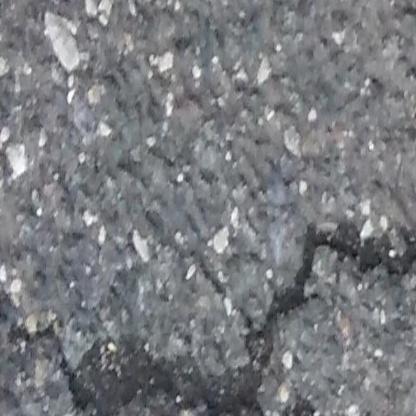Cracks: (65, 212, 416, 416), (284, 394, 364, 416)
